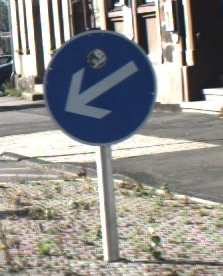panneau: (146, 164, 165, 204)
